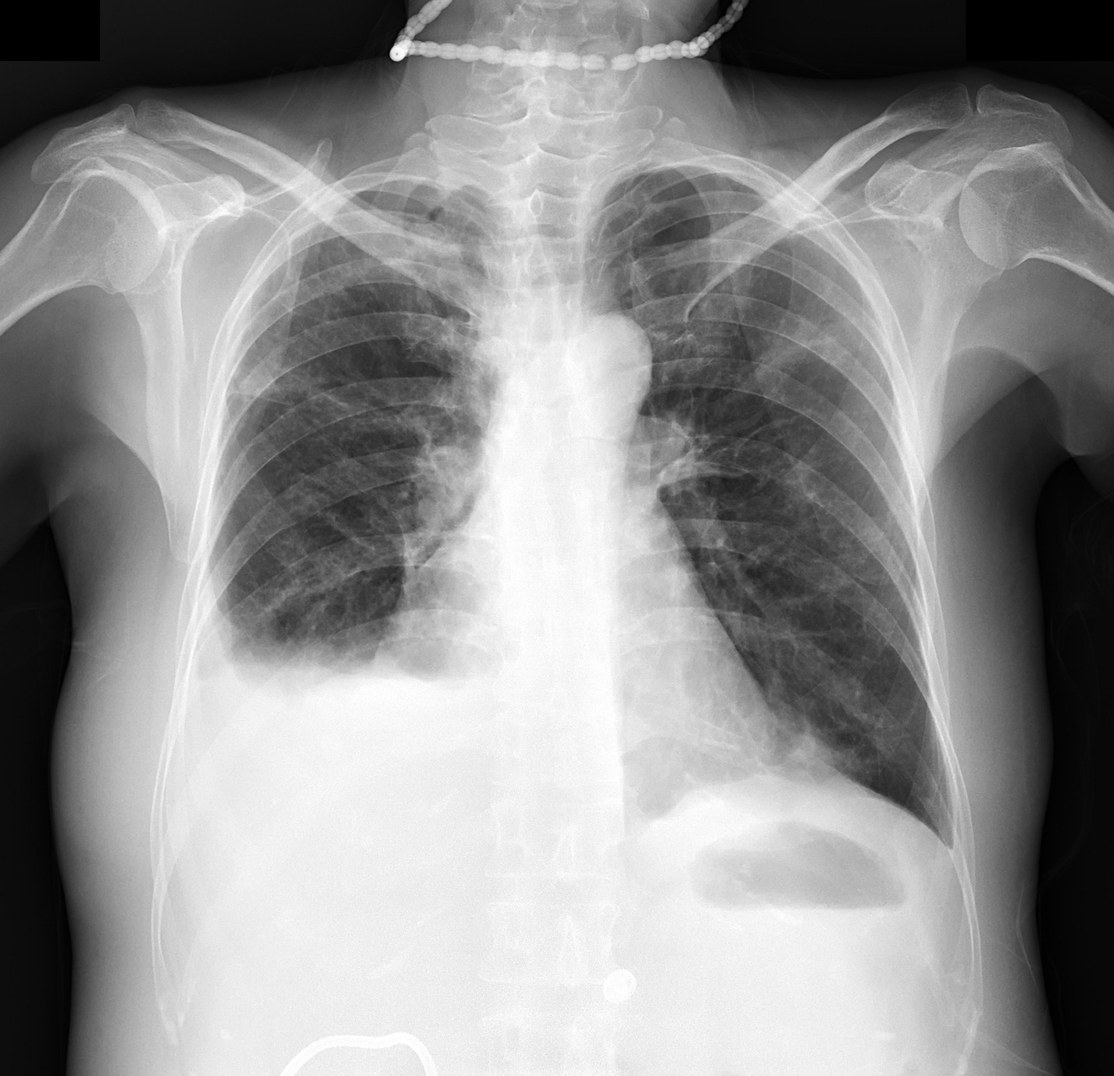Pleural thickening: (285, 189, 357, 232)
Pulmonary fibrosis: (698, 339, 831, 424), (233, 359, 347, 410)
